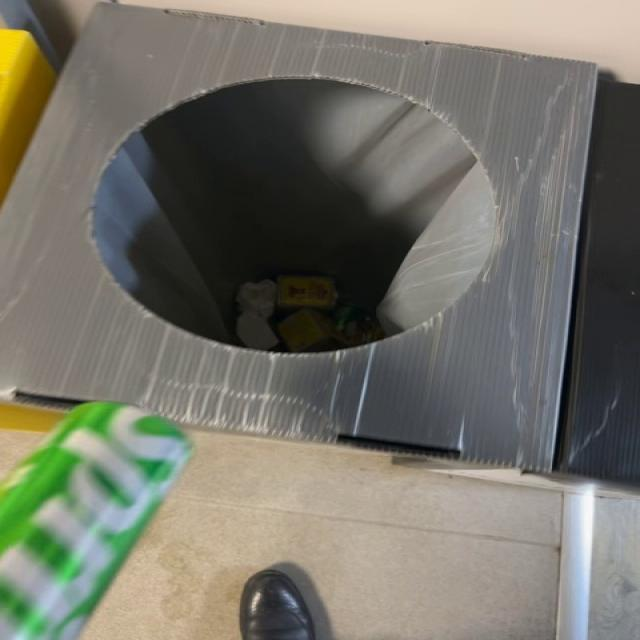Bin: (1, 4, 596, 472)
Metal: (1, 403, 192, 640)
